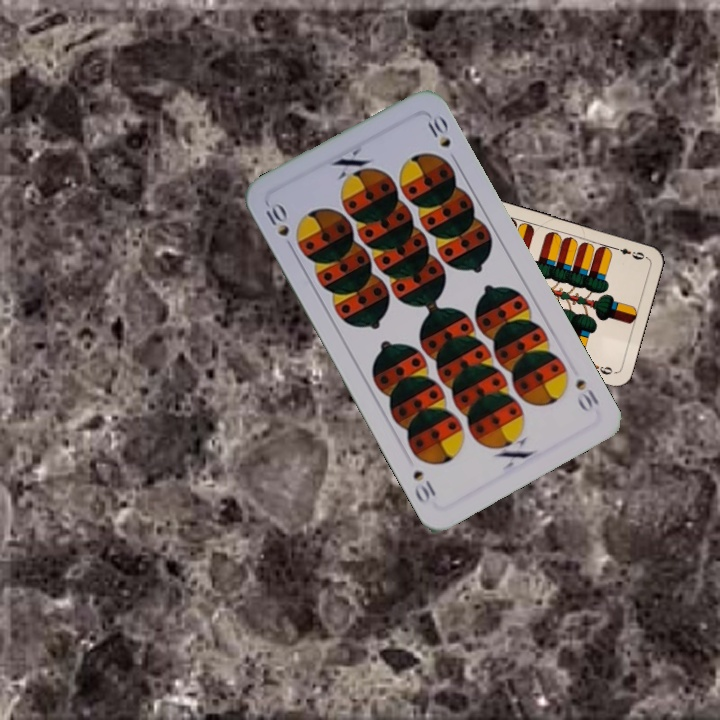E9: (609, 243, 649, 263)
S10: (261, 198, 297, 254), (571, 374, 602, 415)
